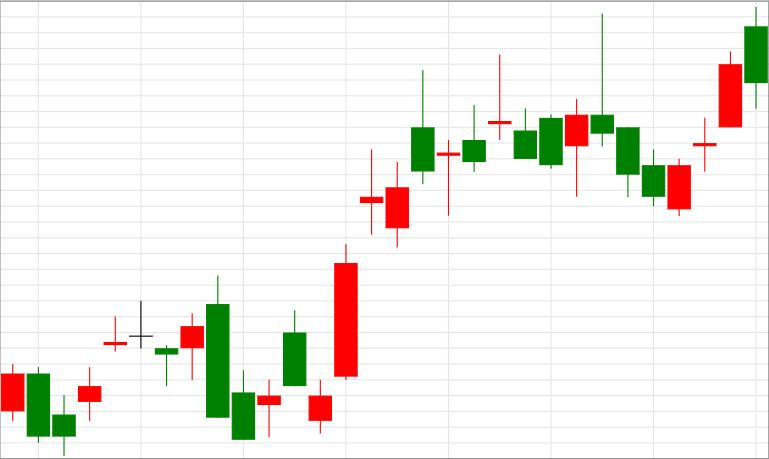shooting_star_fall: (308, 70, 434, 433)
